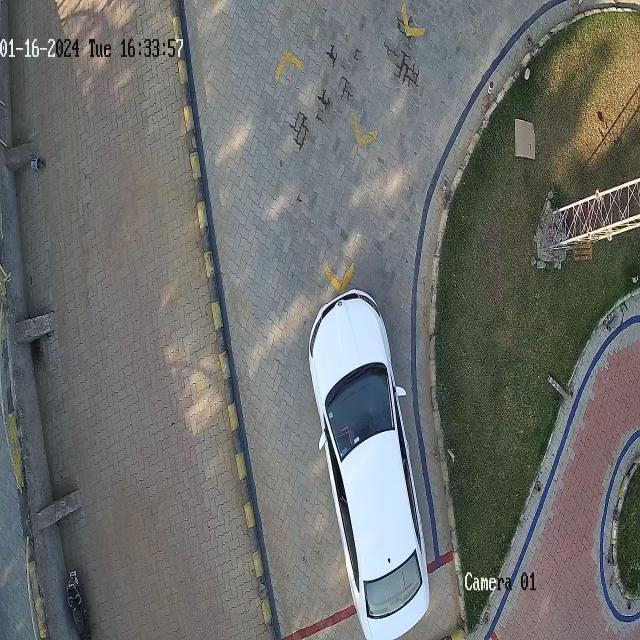car: (309, 289, 430, 638)
